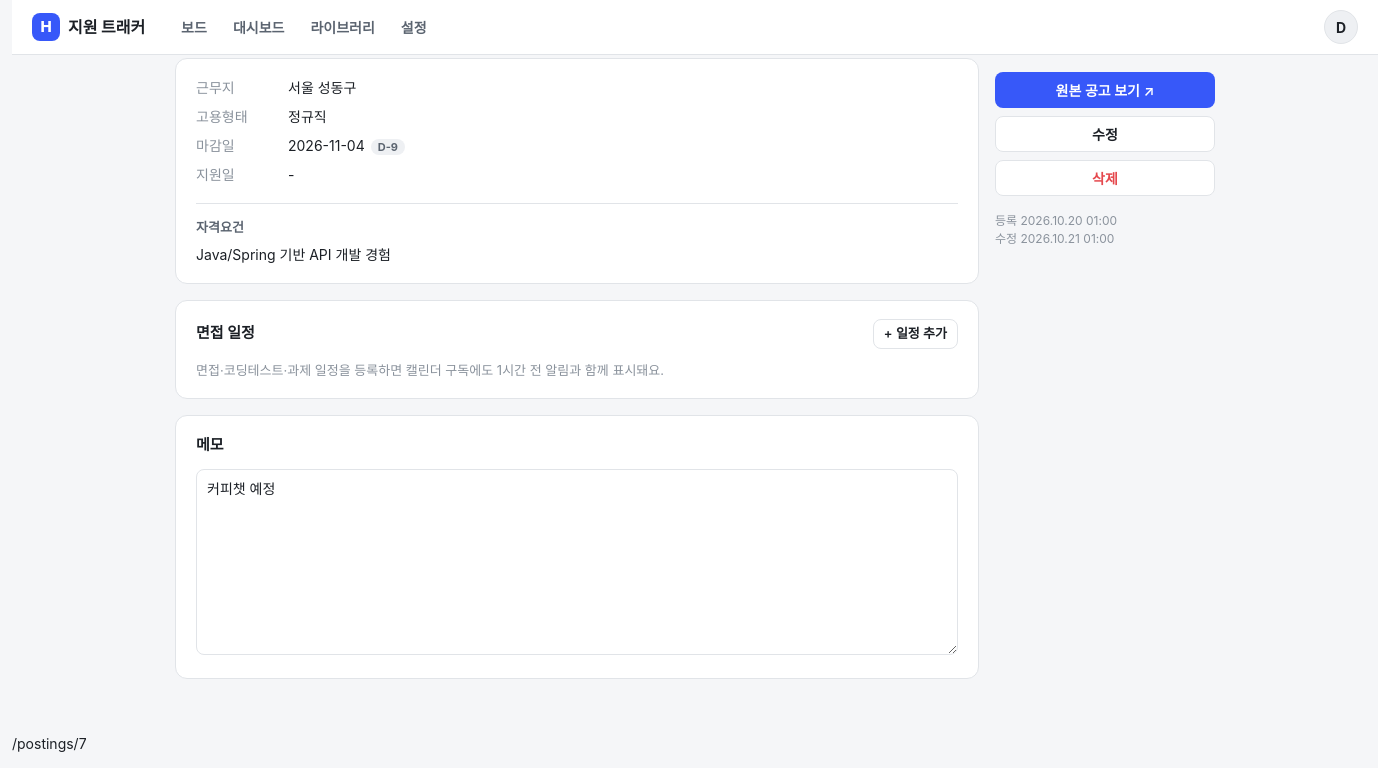
공고 상세 › 메모는 입력이 0.8초 멈추면 자동 저장한다
This screenshot has width=1378, height=768.
(page scrolled)
Type " · 질문 준비" into the text box showing "커피챗 예정" at coordinates (577, 562), box [196,468,958,654]
Wait 800 ms
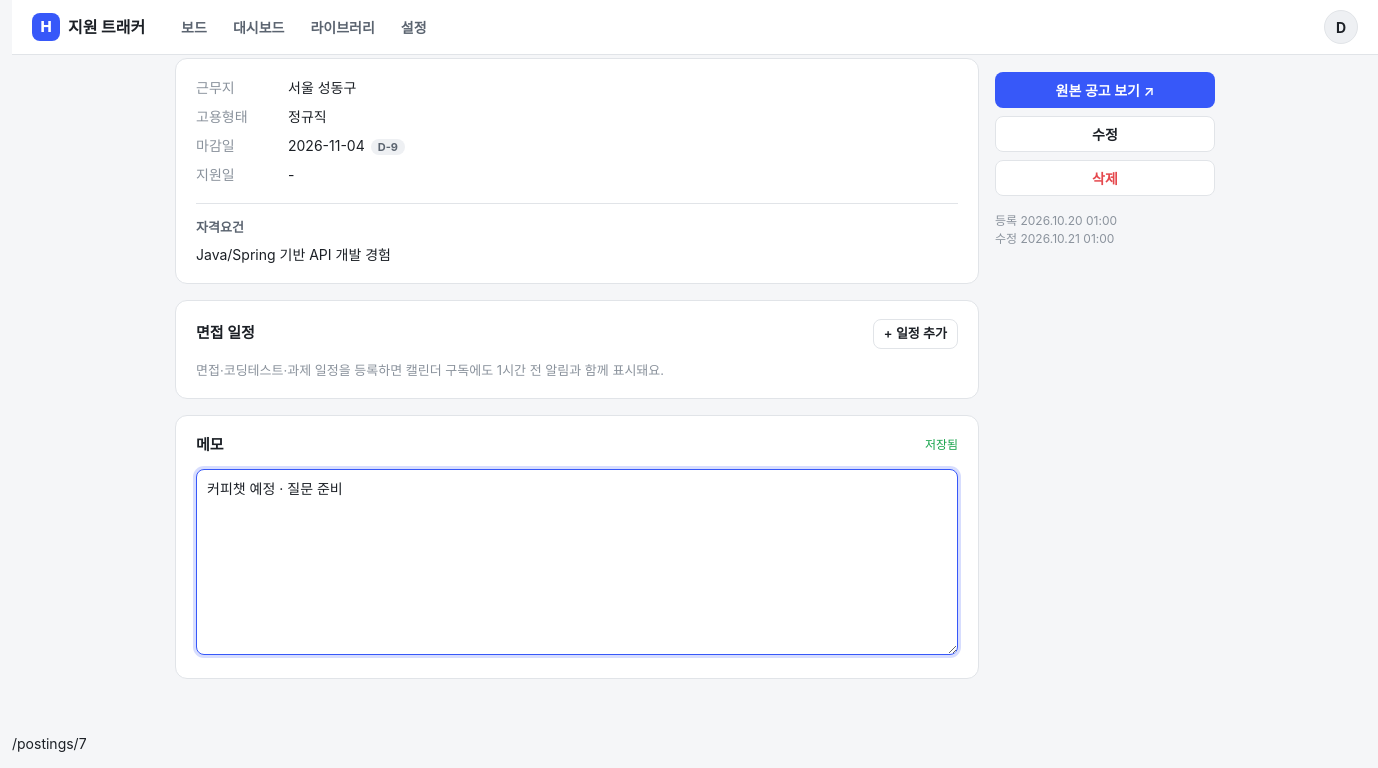
Expected: the text "저장됨" is shown, [925,436,958,454]
